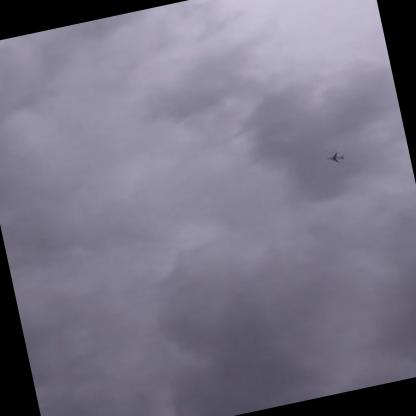plane: (323, 150, 344, 167)
